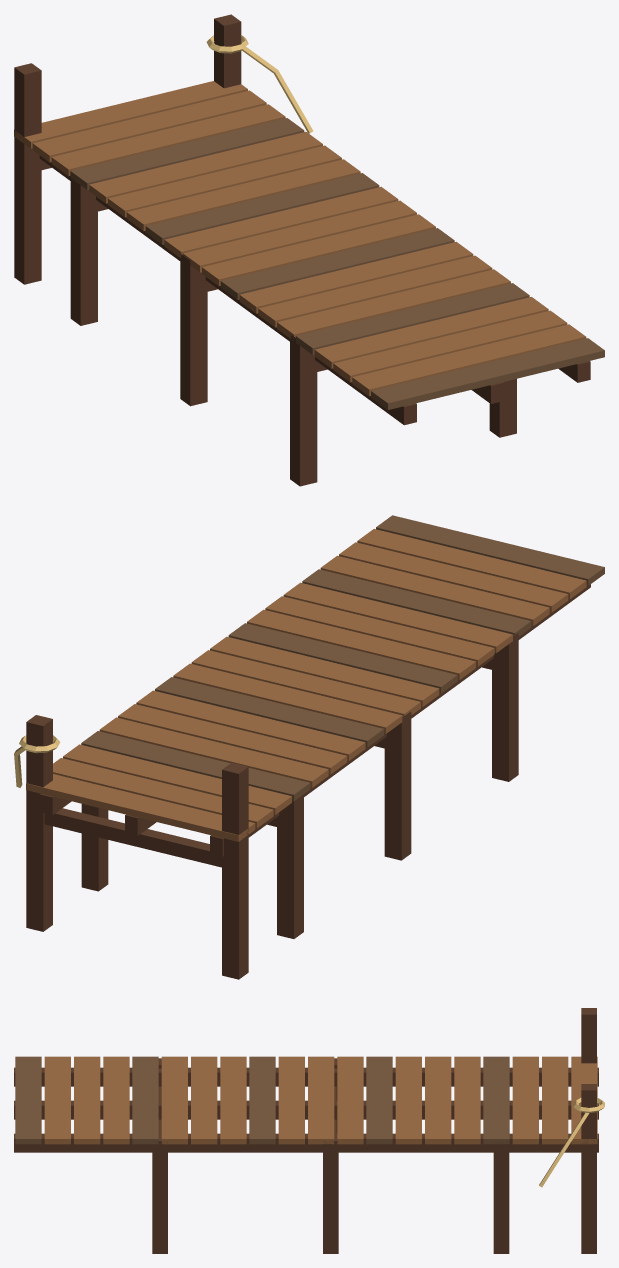
File: pier.glb
3 renders of one model, top to bottom at view 1: azimuth 30°, elevation 25°; view 2: azimuth 150°, elevation 25°; view 3: azimuth 270°, elevation 25°, orthographic. The views are drawn at different scales.
Parts seen in each view (by area): view 1: pier; view 2: pier; view 3: pier.
Part boxes in pixels (x1=…): pier: x1=14, y1=14, x2=604, y2=486; pier: x1=14, y1=515, x2=604, y2=979; pier: x1=14, y1=1008, x2=604, y2=1253.
Size of the model in its own units: 2.42 by 1.85 by 6.06.
